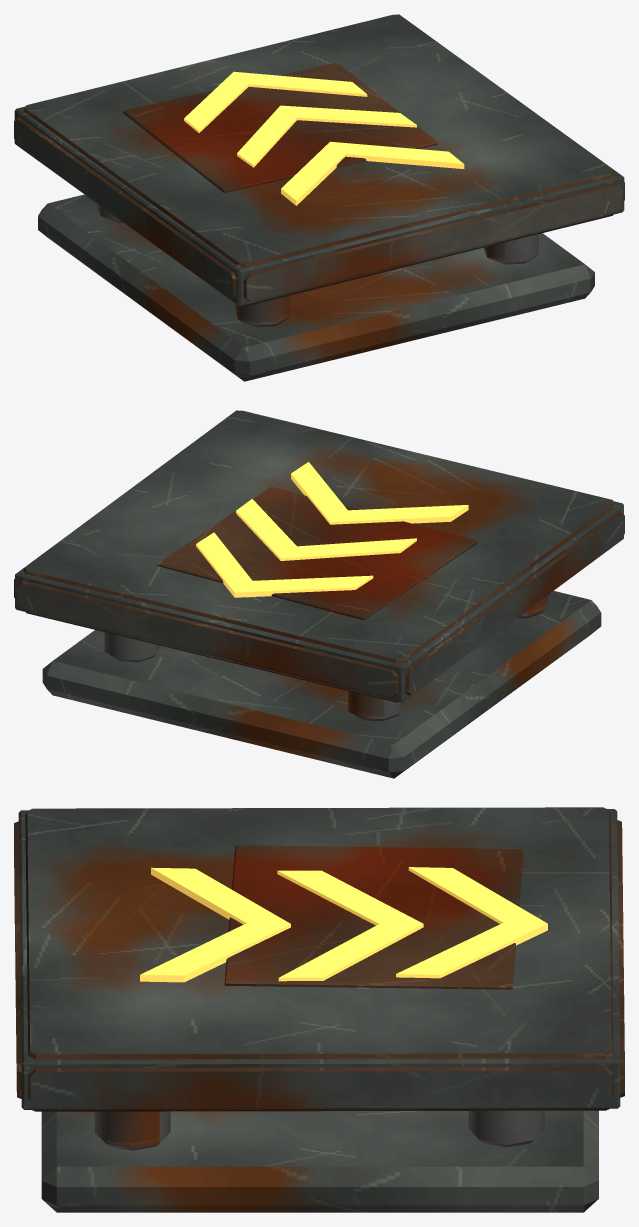
The model's file is R4D_KnockbackTrap.glb.
3 renders of one model, top to bottom at view 1: azimuth 30°, elevation 25°; view 2: azimuth 150°, elevation 25°; view 3: azimuth 270°, elevation 25°, orthographic. The views are drawn at different scales.
Visible parts, largest first — view 1: R4D_KnockbackTrap_Plate, R4D_KnockbackTrap_Body; view 2: R4D_KnockbackTrap_Plate, R4D_KnockbackTrap_Body; view 3: R4D_KnockbackTrap_Plate, R4D_KnockbackTrap_Body.
Boxes of the visible parts, <box> form: R4D_KnockbackTrap_Plate: <box>14,14,624,306</box>; R4D_KnockbackTrap_Body: <box>38,194,594,381</box>; R4D_KnockbackTrap_Plate: <box>14,410,624,702</box>; R4D_KnockbackTrap_Body: <box>42,591,601,778</box>; R4D_KnockbackTrap_Plate: <box>14,807,624,1111</box>; R4D_KnockbackTrap_Body: <box>41,1110,598,1212</box>.
Size of the model in its own units: 0.4823 by 0.156 by 0.4823.
5 materials, 4 textured.
